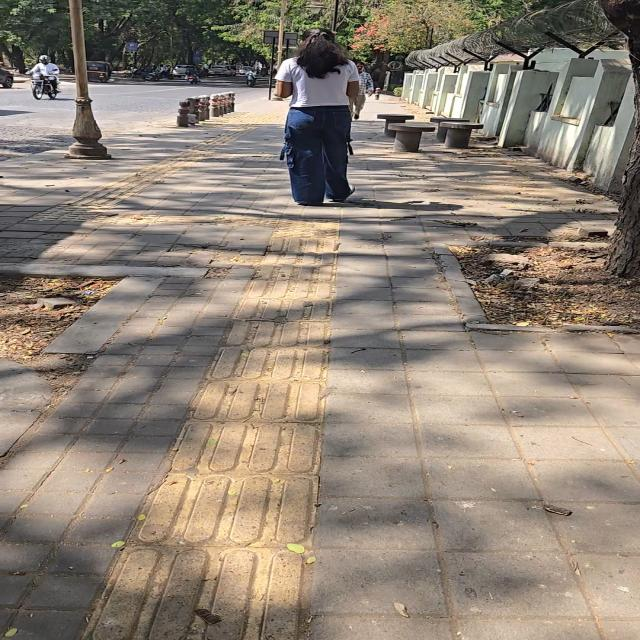auto: (390, 123, 435, 152), (442, 122, 484, 148), (430, 117, 469, 142), (377, 114, 414, 137)
bench: (188, 96, 199, 125), (177, 101, 189, 126), (198, 95, 207, 121), (213, 94, 222, 117), (188, 97, 199, 114), (218, 94, 225, 116), (209, 95, 215, 118), (223, 93, 229, 114), (226, 93, 231, 112), (231, 92, 235, 112), (375, 88, 381, 99)
bike: (439, 243, 639, 322), (276, 29, 359, 205), (66, 0, 110, 159), (350, 62, 373, 119), (28, 55, 59, 92), (276, 0, 286, 69), (268, 41, 275, 99), (332, 0, 338, 33), (246, 72, 256, 87), (160, 64, 169, 78), (186, 74, 199, 83)
